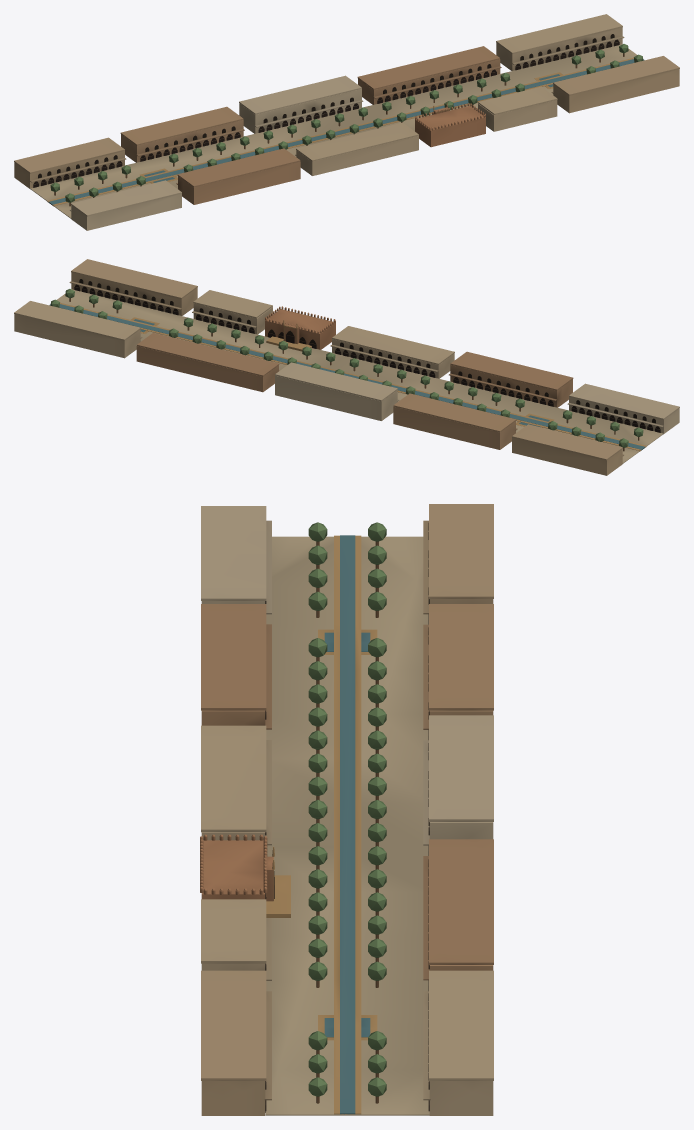
Rendered from chandni-chowk.glb.
The picture shows the model from 3 angles, top to bottom: view 1: azimuth 30°, elevation 25°; view 2: azimuth 150°, elevation 25°; view 3: azimuth 270°, elevation 25°; orthographic projection. The views are drawn at different scales.
Parts seen in each view (by area): view 1: p2_shops, p0_street, p1_trees; view 2: p2_shops, p0_street, p1_trees; view 3: p2_shops, p0_street, p1_trees.
Boxes of the visible parts, x1,y1,x2,y2 form: p2_shops: [14, 14, 679, 230]; p0_street: [30, 44, 644, 218]; p1_trees: [50, 44, 643, 206]; p2_shops: [14, 259, 679, 475]; p0_street: [49, 289, 663, 463]; p1_trees: [50, 289, 643, 451]; p2_shops: [200, 504, 493, 1115]; p0_street: [265, 535, 429, 1115]; p1_trees: [308, 522, 386, 1103].
Bounding box in the file's own units: 300 × 11.36 × 64.55.
